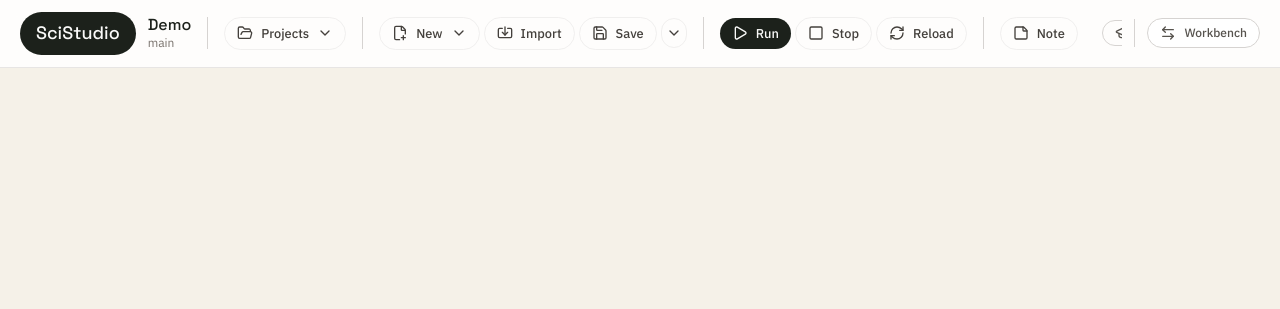
Test: Toolbar — ADR-036 §3.7/§3.12 New menu (I36c) › clicking "New" opens a menu with workflow / custom block / note / plot
Click the button "New" at {"x": 429, "y": 33}, box top-left (379, 17), bottom-right (480, 50)
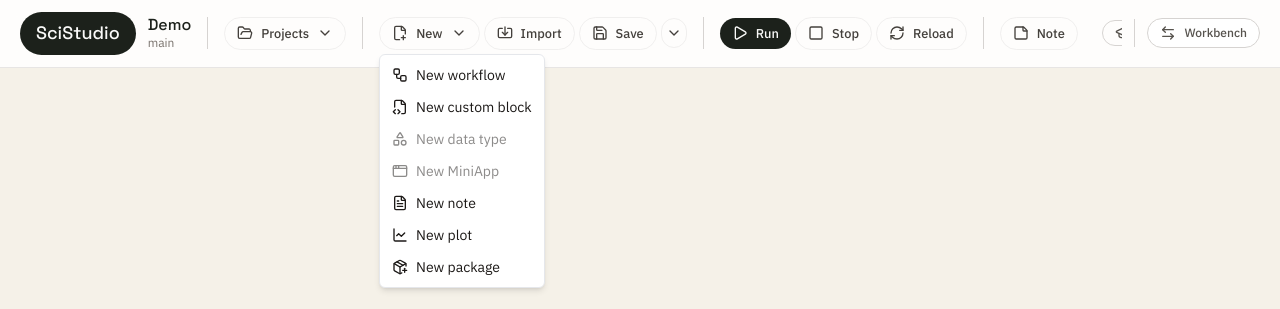
Now the menu item "New workflow" is shown, box top-left (392, 66), bottom-right (506, 84)
Now the menu item "New custom block" is shown, box top-left (392, 98), bottom-right (532, 116)
Now the menu item "New note" is shown, box top-left (392, 194), bottom-right (476, 212)
